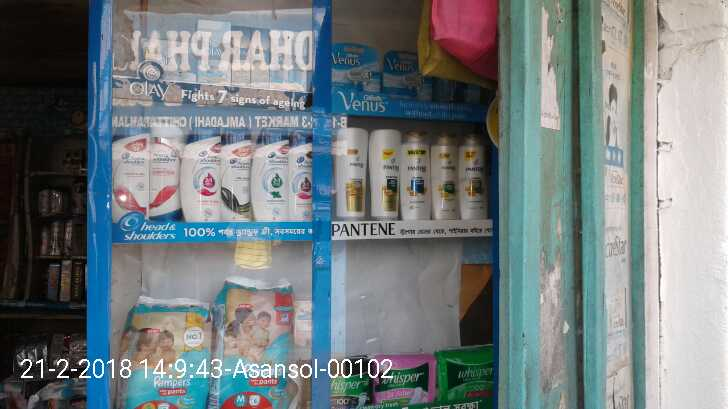venus: (333, 44, 386, 94)
